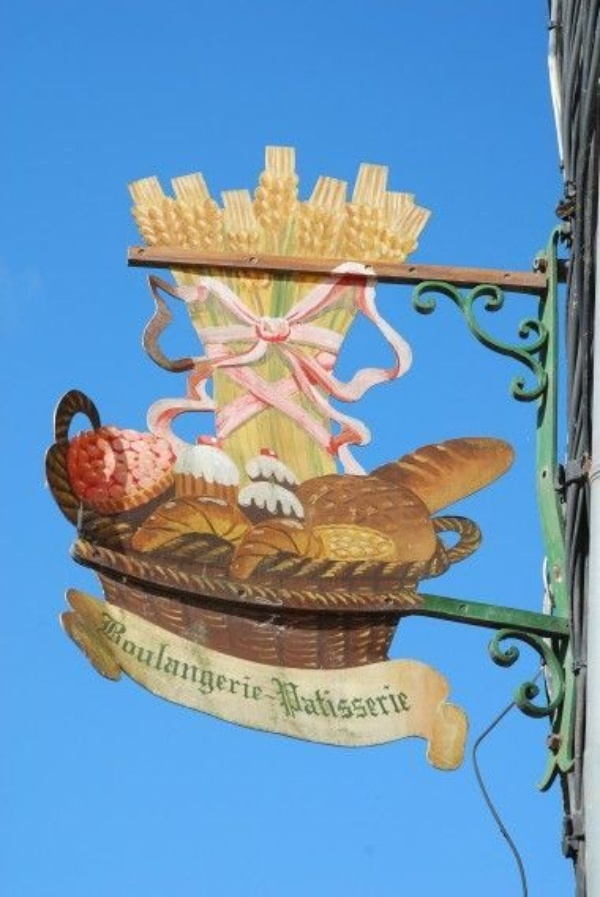text: (97, 604, 112, 717), (113, 604, 128, 717), (129, 604, 144, 717), (145, 604, 160, 717), (161, 604, 176, 717), (177, 604, 192, 717), (193, 604, 208, 717), (209, 604, 224, 717), (225, 604, 240, 717), (241, 604, 256, 717), (257, 604, 267, 717), (401, 673, 417, 724), (273, 673, 288, 724), (289, 673, 304, 724), (305, 673, 320, 724), (321, 673, 336, 724), (337, 673, 352, 724), (353, 673, 368, 724), (369, 673, 384, 724), (385, 673, 400, 724), (263, 680, 272, 710), (94, 604, 96, 717), (273, 680, 280, 710), (269, 673, 272, 724)
